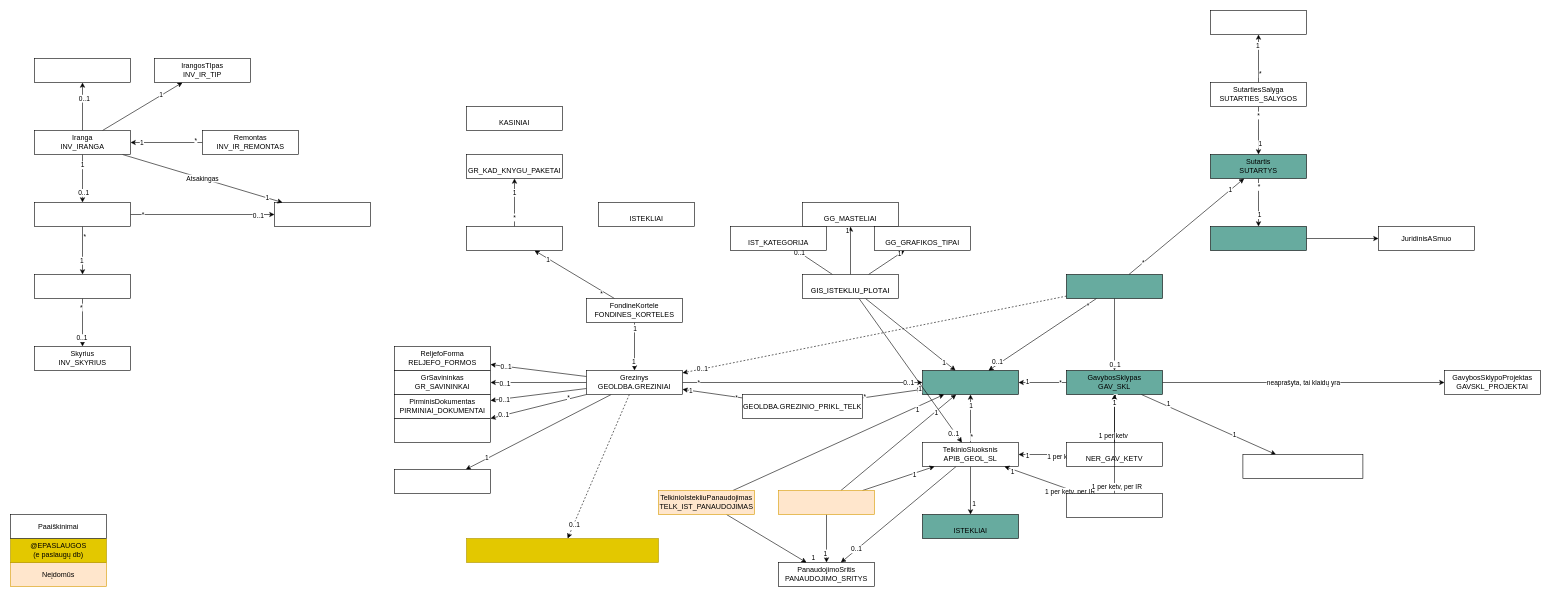
Image size: 1551x597. Some labels were removed from this diagram. Here are the shapes that lost their labels. From the top down, the centre of each, then its label:
At (x=1258, y=22): "SalygosTipas SALYGU_TIPAI".
At (x=82, y=70): "Busena INV_IR_BUSENOS".
At (x=82, y=214): "InventoriausVieta INV".
At (x=322, y=214): "GEOLDBA.ASMUO".
At (x=514, y=238): "GR_KAD_KNYGOS".
At (x=1258, y=238): "Leidimas LEIDIMAI".
At (x=82, y=286): "DarbuoVieta INV_DARB_VIETA".
At (x=1114, y=286): "ZGRLGavybosObjektas ZGRL_GAVYBOS_OBJEKTAI".
At (x=970, y=382): "Telkinys TELKINIAI".
At (x=442, y=430): "GEOLAtaskaita GEOL_ATASKAITOS".
At (x=442, y=481): "GEOG_TASKAI".
At (x=1302, y=466): "GIS_KASYBOS_SKLYPU_EOBJ".
At (x=826, y=502): "IstekliuPanaudojimas IST_PANAUDOJIMAS".
At (x=1114, y=505): "NER_ISK_GAV".
At (x=562, y=550): "EPAS.EPAS_GIS_GREZINIU_EOBJ@EPASLAUGOS".
